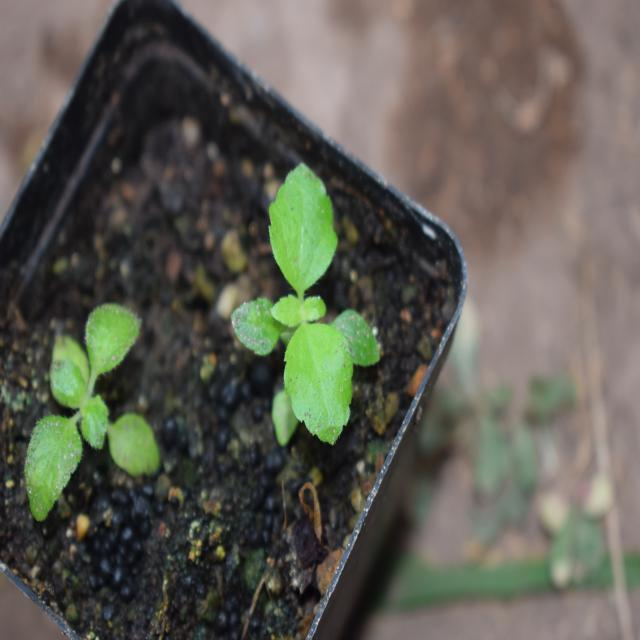billygoat_weed: (235, 152, 373, 444), (8, 308, 168, 510)
